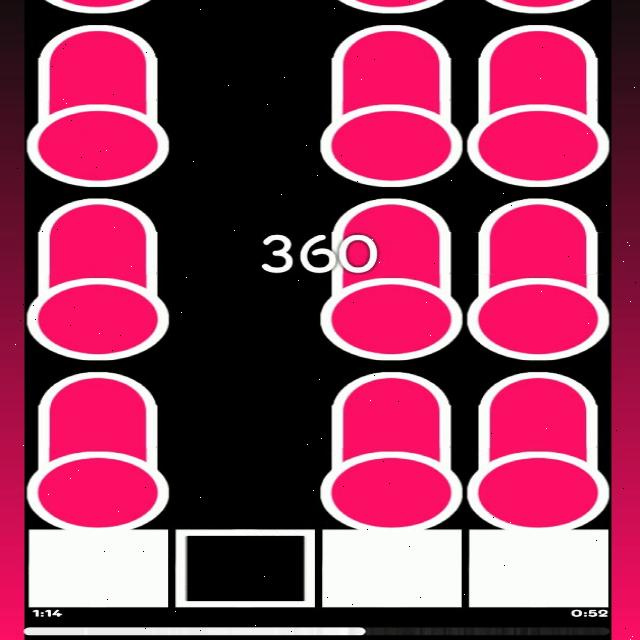end_hold: (31, 16, 168, 57), (326, 18, 454, 61), (34, 192, 162, 235), (477, 20, 600, 60), (34, 368, 160, 407), (474, 369, 600, 408), (330, 193, 453, 232), (328, 368, 452, 406), (479, 194, 597, 232)
start_hold: (319, 96, 464, 186), (28, 268, 169, 360), (26, 97, 170, 187), (319, 441, 464, 529), (468, 269, 608, 360), (469, 97, 610, 187), (318, 272, 458, 361), (29, 439, 168, 528), (467, 444, 607, 532)
